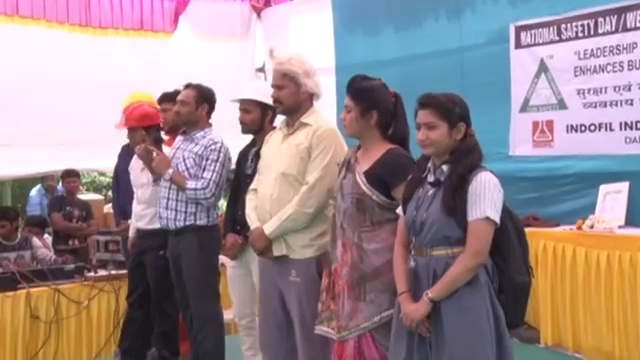helmet: (114, 98, 164, 131), (226, 80, 275, 112)
helmet_off: (408, 91, 476, 170), (340, 75, 403, 146), (261, 56, 326, 119), (196, 72, 240, 126), (173, 84, 217, 138), (157, 88, 183, 147), (0, 204, 22, 238), (21, 213, 49, 239), (58, 169, 79, 200), (40, 171, 60, 196)
helmet_on: (113, 100, 164, 153), (227, 83, 273, 139)
person: (392, 73, 532, 360), (241, 48, 354, 360), (321, 62, 414, 356), (133, 79, 221, 357), (108, 99, 181, 359), (221, 79, 277, 358), (45, 170, 93, 278), (0, 202, 73, 271), (24, 171, 61, 216)
